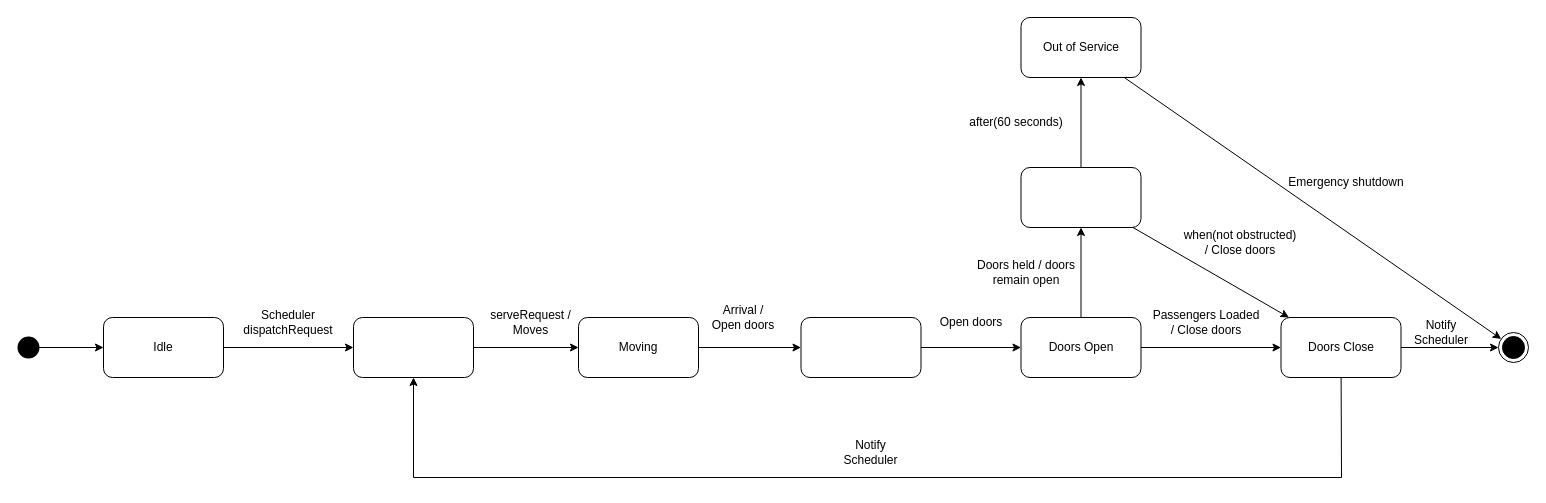
The diagram is 1546 pixels wide and 503 high, and some of its shapes have lost their labels. The box of each missing label's shape, as (x1, y1, x2, y2) in pixels:
Await Request: (352, 316, 474, 378)
Doors Obstruction: (1020, 166, 1141, 228)
Stop: (800, 316, 921, 378)
